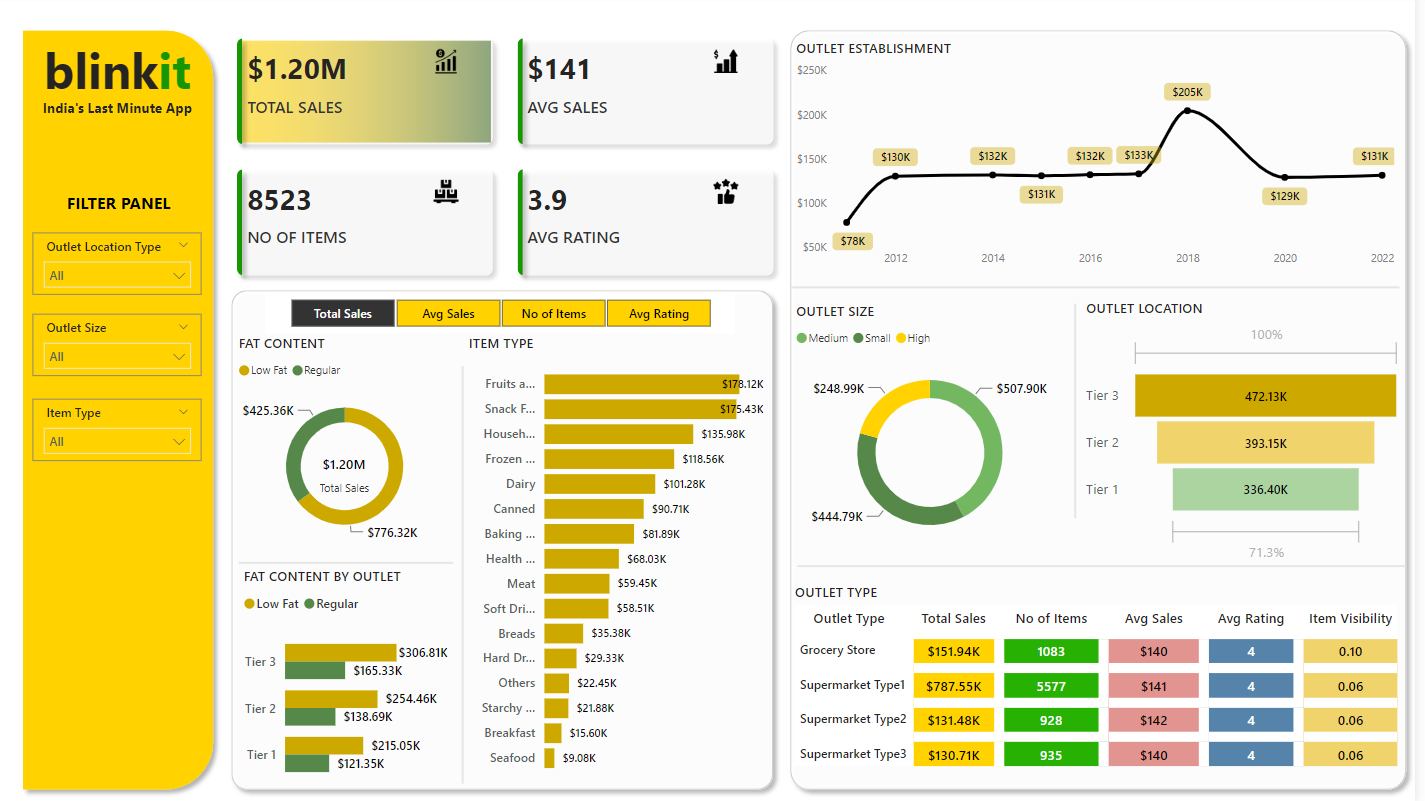

The page's visual inventory and layout, read from the dashboard file:
{"tool":"powerbi","page":{"name":"Page 1","canvas":[1400,800],"ordinal":0},"visuals":[{"type":"shape","box":[13.4,25.5,206.4,769.2],"z":0},{"type":"textbox","box":[28.5,36,175.6,103.6],"z":1000},{"type":"textbox","box":[15,97.6,202.6,42],"z":2000},{"type":"cardVisual","fields":{"Data":["BlinkIT Grocery Data.Total Sales","BlinkIT Grocery Data.Avg Sales","BlinkIT Grocery Data.No of Items","BlinkIT Grocery Data.Avg Rating"]},"box":[217.1,25.5,565.5,269.3],"z":3000},{"type":"shape","box":[219.8,282.7,553.4,511.9],"z":4000},{"type":"donutChart","title":"FAT CONTENT","fields":{"Y":["BlinkIT Grocery Data.Total Sales"],"Category":["BlinkIT Grocery Data.Item Fat Content"]},"box":[231.8,335,219.8,217.1],"z":5000},{"type":"slicer","fields":{"Values":["Metrics.Metrics"]},"box":[262.6,294.8,465,40.2],"z":6000},{"type":"cardVisual","fields":{"Data":["BlinkIT Grocery Data.Total Sales"]},"box":[293.5,438.2,95.1,64.3],"z":7000},{"type":"clusteredBarChart","title":" FAT CONTENT BY OUTLET","fields":{"Y":["BlinkIT Grocery Data.Total Sales"],"Category":["BlinkIT Grocery Data.Outlet Location Type"],"Series":["BlinkIT Grocery Data.Item Fat Content"]},"box":[235.8,565.5,211.7,229.1],"z":8000},{"type":"shape","box":[235.8,549.4,211.7,25.5],"z":9000},{"type":"shape","box":[447.6,367.2,20.1,412.7],"z":10000},{"type":"barChart","title":"ITEM TYPE","fields":{"Y":["BlinkIT Grocery Data.Total Sales"],"Category":["BlinkIT Grocery Data.Item Type"]},"box":[458.3,335,301.5,444.9],"z":11000},{"type":"shape","box":[773.2,25.5,627.1,769.2],"z":12000},{"type":"lineChart","title":"OUTLET ESTABLISHMENT","fields":{"Y":["BlinkIT Grocery Data.Total Sales"],"Category":["BlinkIT Grocery Data.Outlet Establishment Year"]},"box":[782.6,42.9,601.7,234.5],"z":13000},{"type":"shape","box":[782.6,282.7,601.7,12.1],"z":15000},{"type":"donutChart","title":"OUTLET SIZE","fields":{"Y":["BlinkIT Grocery Data.Total Sales"],"Category":["BlinkIT Grocery Data.Outlet Size"]},"box":[782.2,302.7,274.7,254.4],"z":16000},{"type":"shape","box":[1056.9,305.2,12.7,212.4],"z":17000},{"type":"funnel","title":"OUTLET LOCATION","fields":{"Y":["Sum(BlinkIT Grocery Data.Sales)"],"Category":["BlinkIT Grocery Data.Outlet Location Type"]},"box":[1069.6,300.1,321.8,267.1],"z":18000},{"type":"shape","box":[789.3,558.8,601.7,12.1],"z":19000},{"type":"pivotTable","title":"OUTLET TYPE","fields":{"Rows":["BlinkIT Grocery Data.Outlet Type"],"Values":["BlinkIT Grocery Data.Total Sales","BlinkIT Grocery Data.No of Items","BlinkIT Grocery Data.Avg Sales","BlinkIT Grocery Data.Avg Rating","Avg(BlinkIT Grocery Data.Item Visibility)"]},"box":[781.2,581.6,609.7,217.1],"z":20000},{"type":"slicer","fields":{"Values":["BlinkIT Grocery Data.Outlet Location Type"]},"box":[32.2,234.5,167.5,61.6],"z":21000},{"type":"slicer","fields":{"Values":["BlinkIT Grocery Data.Outlet Size"]},"box":[32.2,314.9,167.5,61.6],"z":23000},{"type":"slicer","fields":{"Values":["BlinkIT Grocery Data.Item Type"]},"box":[32.2,399.3,167.5,61.6],"z":24000},{"type":"textbox","box":[45.6,188.9,143.4,33.5],"z":25000}]}

Visuals, with their boxes in screenshot pixels (x1, y1, x2, y2), scaled from the page's 1400x800 canvas onto the 1425x801 screenshot:
shape: (x1=14, y1=26, x2=224, y2=796)
textbox: (x1=29, y1=36, x2=208, y2=140)
textbox: (x1=15, y1=98, x2=221, y2=140)
cardVisual - BlinkIT Grocery Data.Total Sales x BlinkIT Grocery Data.Avg Sales: (x1=221, y1=26, x2=797, y2=295)
shape: (x1=224, y1=283, x2=787, y2=796)
"FAT CONTENT" donutChart: (x1=236, y1=335, x2=460, y2=553)
slicer - Metrics.Metrics: (x1=267, y1=295, x2=741, y2=335)
cardVisual - BlinkIT Grocery Data.Total Sales: (x1=299, y1=439, x2=396, y2=503)
" FAT CONTENT BY OUTLET" clusteredBarChart: (x1=240, y1=566, x2=455, y2=796)
shape: (x1=240, y1=550, x2=455, y2=576)
shape: (x1=456, y1=368, x2=476, y2=781)
"ITEM TYPE" barChart: (x1=466, y1=335, x2=773, y2=781)
shape: (x1=787, y1=26, x2=1424, y2=796)
"OUTLET ESTABLISHMENT" lineChart: (x1=797, y1=43, x2=1409, y2=278)
shape: (x1=797, y1=283, x2=1409, y2=295)
"OUTLET SIZE" donutChart: (x1=796, y1=303, x2=1076, y2=558)
shape: (x1=1076, y1=306, x2=1089, y2=518)
"OUTLET LOCATION" funnel: (x1=1089, y1=300, x2=1416, y2=568)
shape: (x1=803, y1=559, x2=1416, y2=572)
"OUTLET TYPE" pivotTable: (x1=795, y1=582, x2=1416, y2=800)
slicer - BlinkIT Grocery Data.Outlet Location Type: (x1=33, y1=235, x2=203, y2=296)
slicer - BlinkIT Grocery Data.Outlet Size: (x1=33, y1=315, x2=203, y2=377)
slicer - BlinkIT Grocery Data.Item Type: (x1=33, y1=400, x2=203, y2=461)
textbox: (x1=46, y1=189, x2=192, y2=223)
